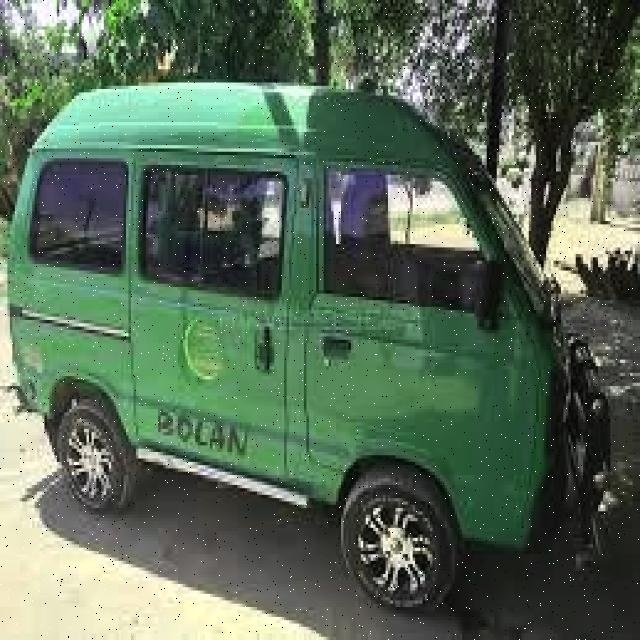Van: (15, 43, 620, 613)
